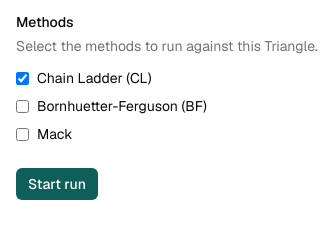
Test: RunConfig gating (AC1) › no method selected → Start disabled
Click the checkbox labelled "Chain Ladder (CL)".
click(22, 78)  # box x1=16 y1=72 x2=29 y2=84
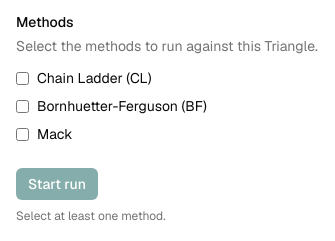
Expected: the button "Start run" is disabled, x1=16 y1=168 x2=98 y2=200
Expected: the text "Select at least one method." is shown, x1=16 y1=208 x2=166 y2=224
